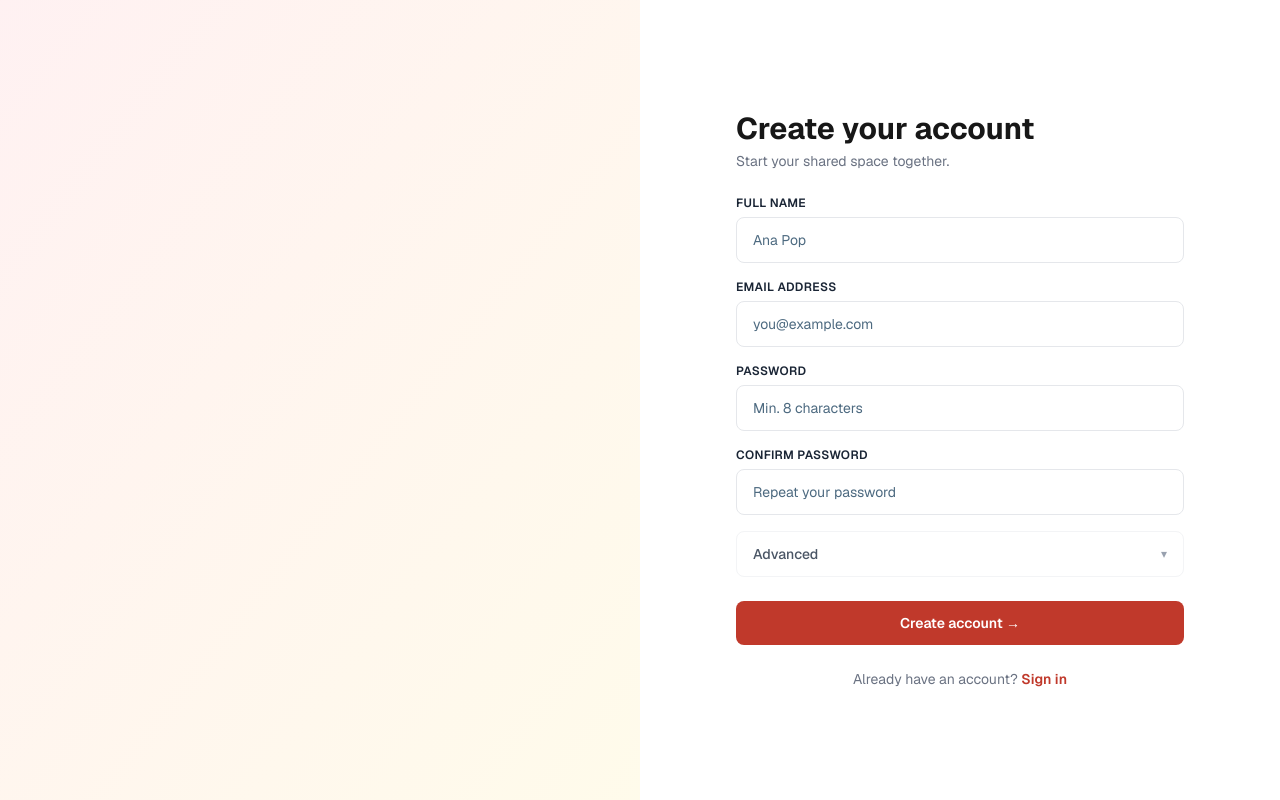
Test: RegisterPage — PIN in collapsed advanced section (FD-10) › reveals the PIN input when the toggle is clicked
This screenshot has width=1280, height=800.
Click the button "Advanced ▾".
click(786, 554)  # box [737, 532, 1183, 576]
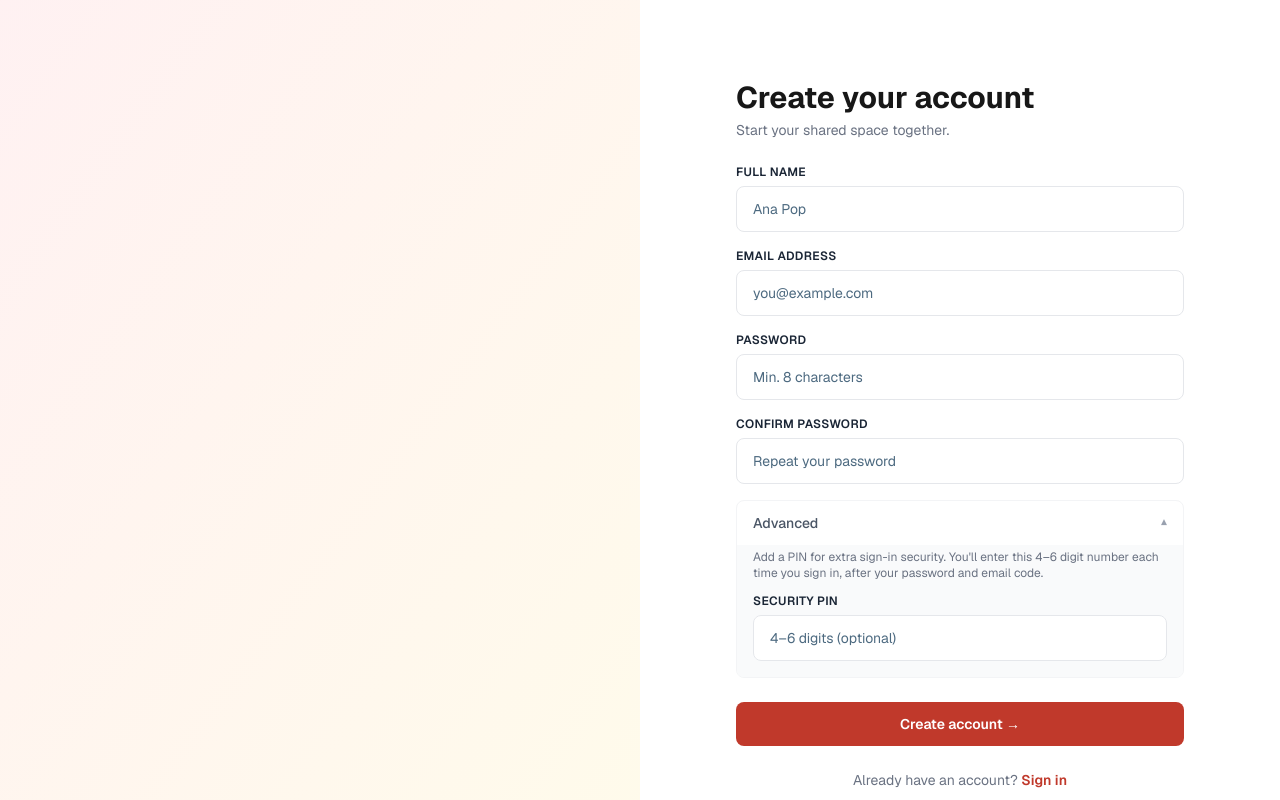
Now the password field labelled "Security PIN" is shown, box [753, 615, 1167, 661]
